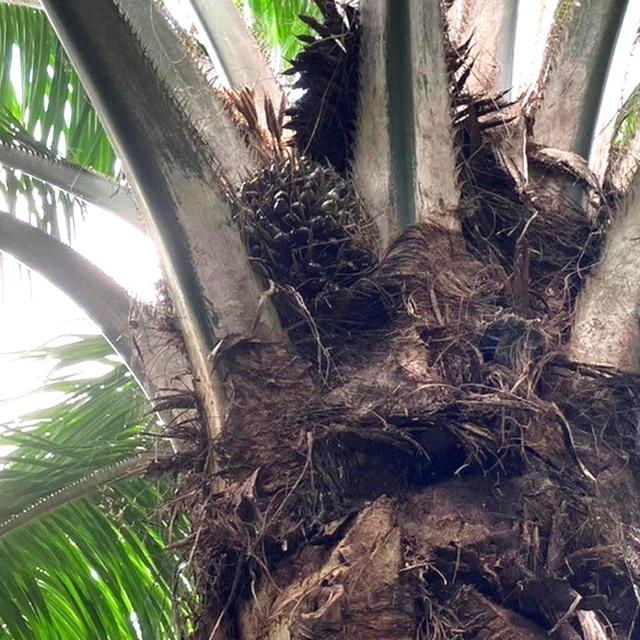almost: (227, 146, 378, 314)
